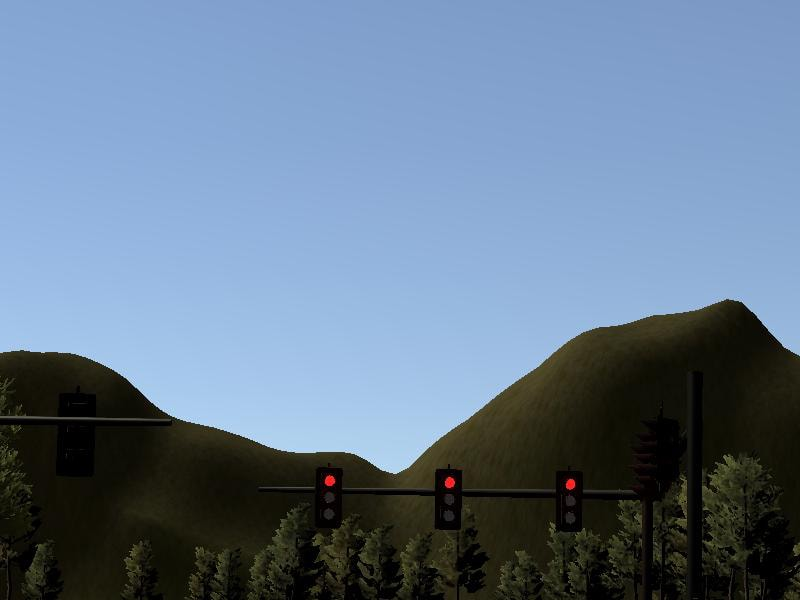red: (315, 469, 343, 529), (434, 469, 462, 529), (556, 471, 584, 531)
